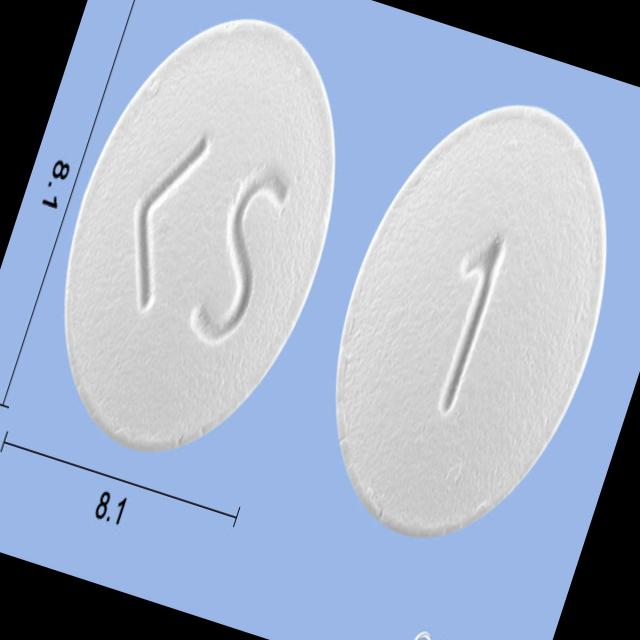Levofxa: (12, 0, 388, 490), (285, 67, 640, 572)
